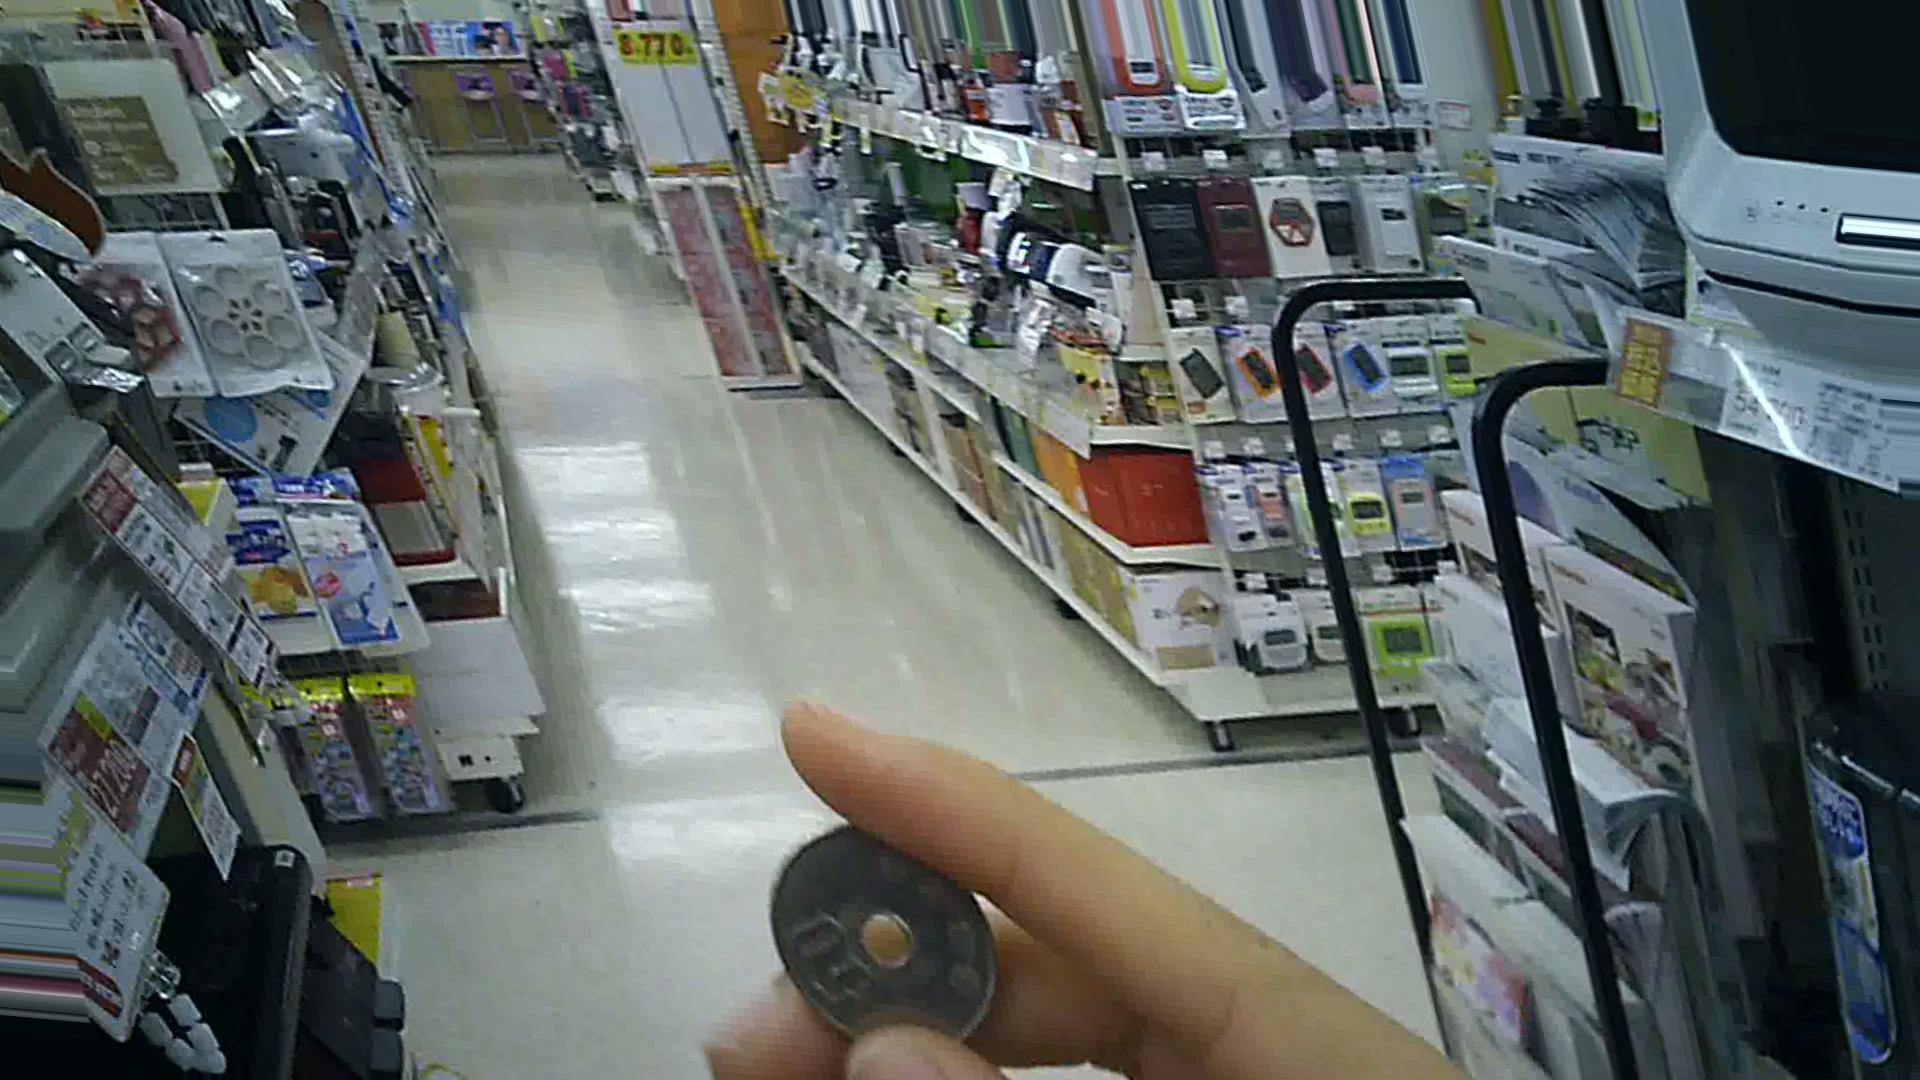50 Yen: (762, 818, 1006, 1064)
